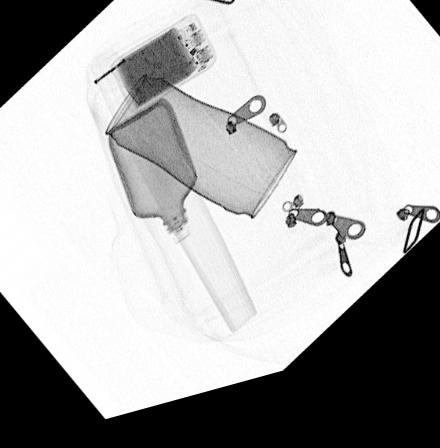Powerbank: (108, 24, 217, 121)
